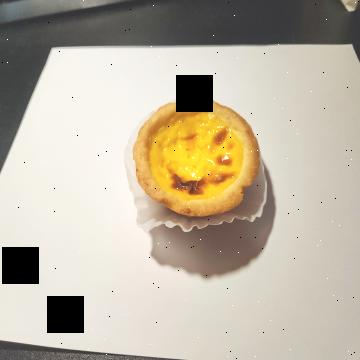EggTart: (132, 97, 262, 222)
